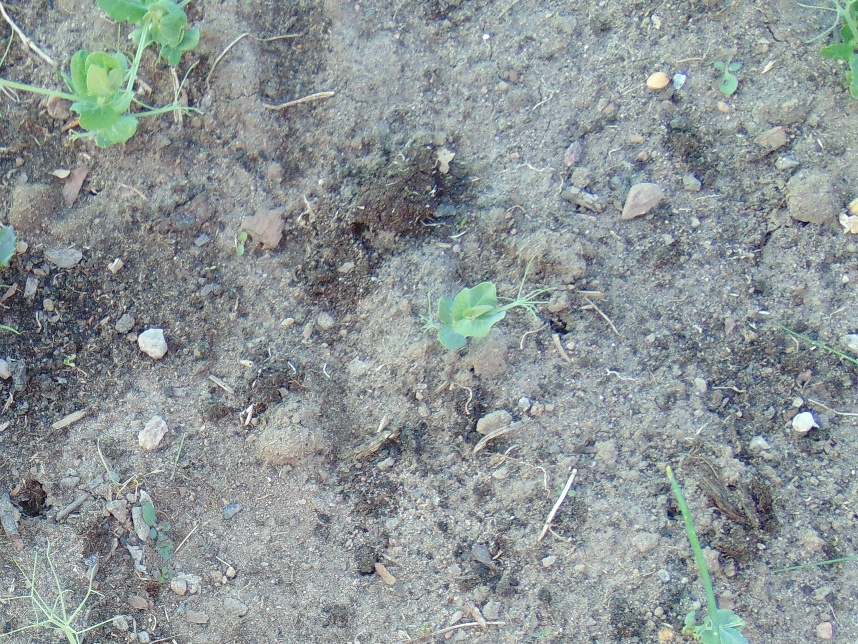crop: (2, 3, 203, 150), (425, 268, 545, 357), (804, 2, 858, 98), (33, 583, 96, 644), (692, 607, 751, 644)
weed: (142, 500, 173, 557), (716, 53, 743, 97), (1, 214, 20, 273), (235, 230, 247, 257)
